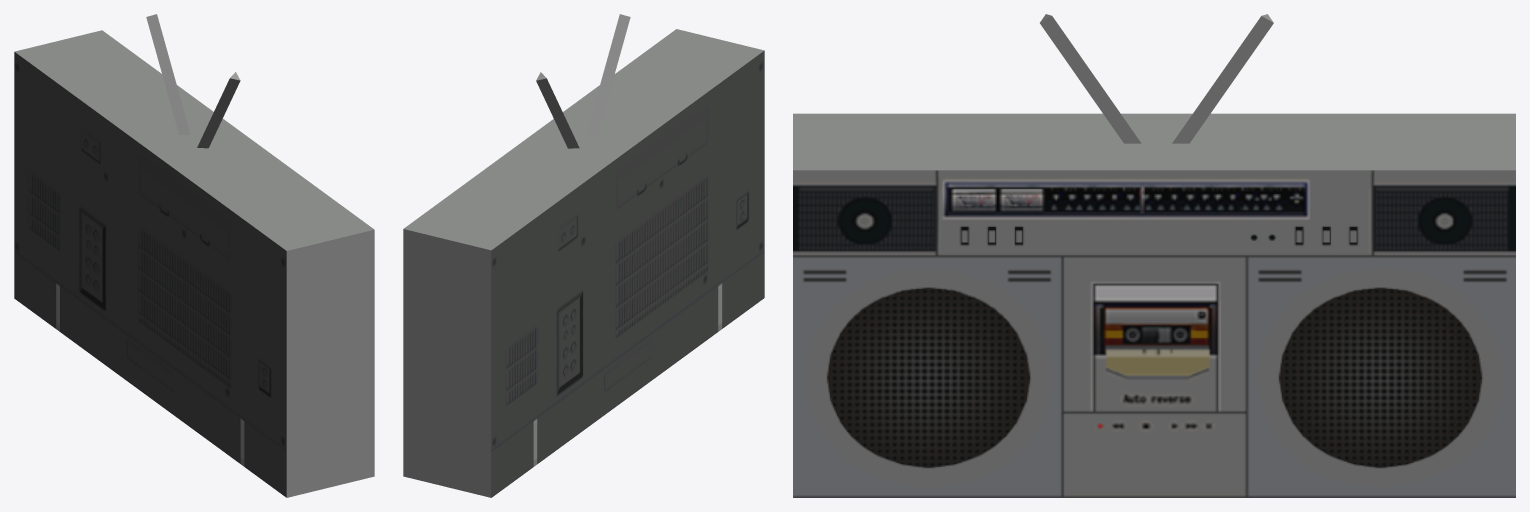
File: BoomBox.obj
3 renders of one model, left to right at view 1: azimuth 30°, elevation 25°; view 2: azimuth 150°, elevation 25°; view 3: azimuth 270°, elevation 25°, orthographic. The views are drawn at different scales.
Size of the model in its own units: 0.1173 by 0.4381 by 0.63.
Materials: 2 (2 with a texture image).
